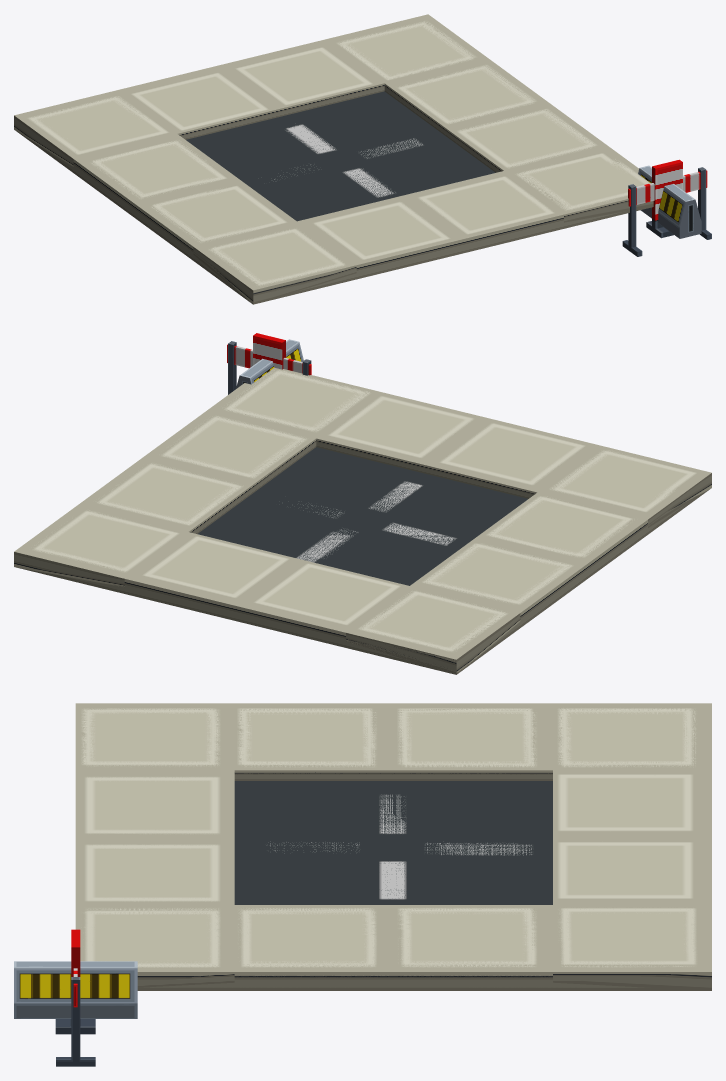
The model's file is road_atlas_01.fbx.
The picture shows the model from 3 angles, top to bottom: view 1: azimuth 30°, elevation 25°; view 2: azimuth 150°, elevation 25°; view 3: azimuth 270°, elevation 25°; orthographic projection. The views are drawn at different scales.
Parts seen in each view (by area): view 1: roads:end, roads:straight, roads:corner, roads:t, roads:junction, roads:barrier, roads:sign_big, roads:sign; view 2: roads:end, roads:straight, roads:t, roads:corner, roads:junction, roads:sign_big, roads:sign, roads:barrier; view 3: roads:end, roads:corner, roads:t, roads:straight, roads:barrier, roads:junction, roads:sign_big, roads:sign.
Part boxes in pixels (x1,y1,x2,y2): roads:end: (14,14,653,304); roads:straight: (45,22,597,289); roads:corner: (14,14,653,304); roads:t: (35,15,650,241); roads:junction: (33,27,638,302); roads:barrier: (638,165,701,238); roads:sign_big: (622,167,711,256); roads:sign: (646,159,682,238); roads:end: (14,368,711,674); roads:straight: (14,368,670,642); roads:t: (14,368,711,673); roads:corner: (21,368,711,674); roads:junction: (45,368,709,657); roads:sign_big: (227,341,311,394); roads:sign: (253,333,285,369); roads:barrier: (236,339,303,388); roads:end: (75,703,711,988); roads:corner: (75,703,711,990); roads:t: (75,703,711,990); roads:straight: (75,703,711,990); roads:barrier: (14,961,137,1018); roads:junction: (77,703,711,971); roads:sign_big: (56,968,95,1066); roads:sign: (55,929,95,1034).
Bounding box in the file's own units: 21.89 × 3.61 × 21.94.
